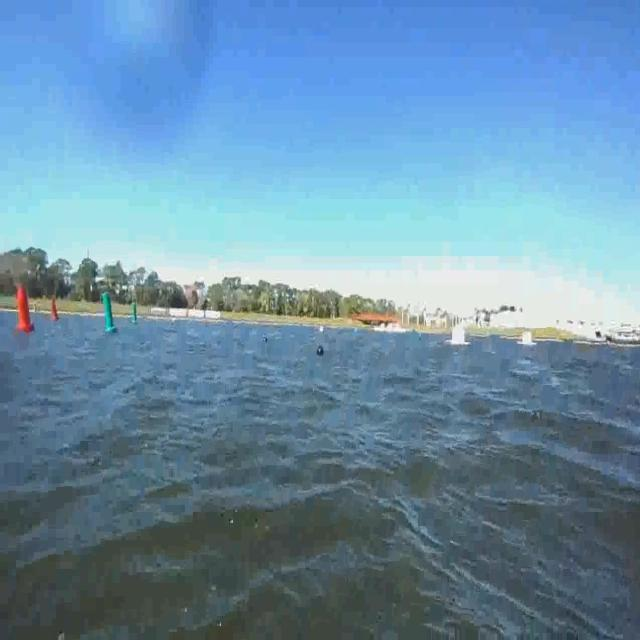black-buoy: (317, 345, 323, 357), (263, 337, 268, 342)
green-column-buoy: (100, 292, 118, 332), (131, 300, 140, 324)
red-column-buoy: (16, 283, 36, 332), (51, 293, 62, 321)
